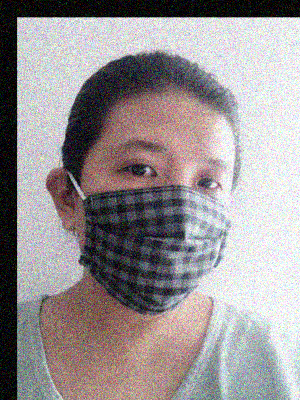with_mask: (77, 138, 236, 318)
